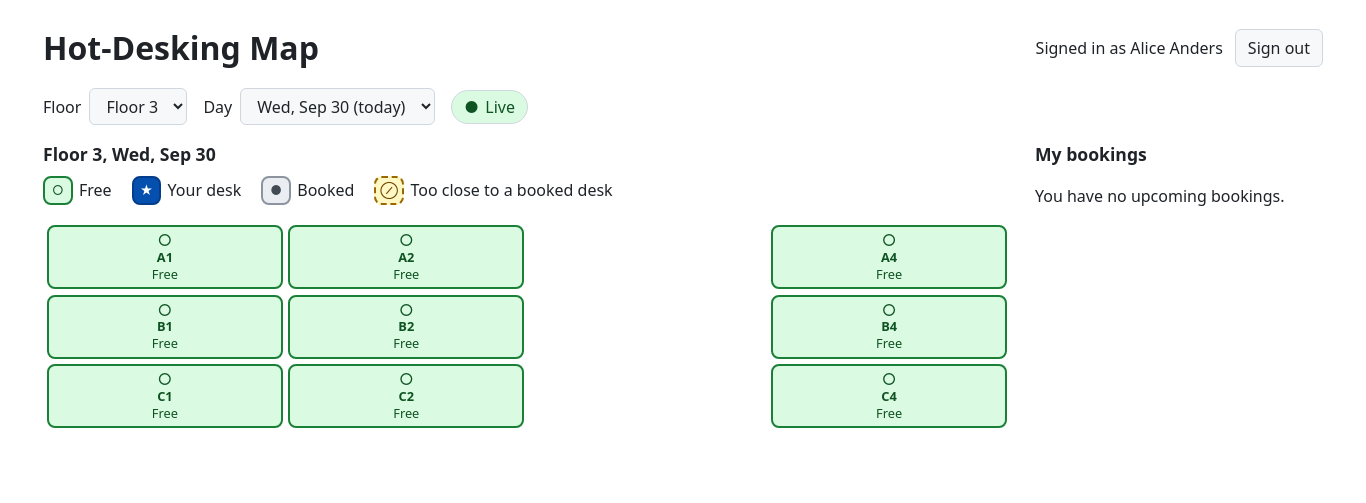
it: optimistic booking › reconciles with the server after DESK_TAKEN
Expected: the table is shown, x1=47 y1=225 x2=1007 y2=428
Click the button "○ A2 Free" at (406, 257), box x1=288 y1=225 x2=524 y2=289
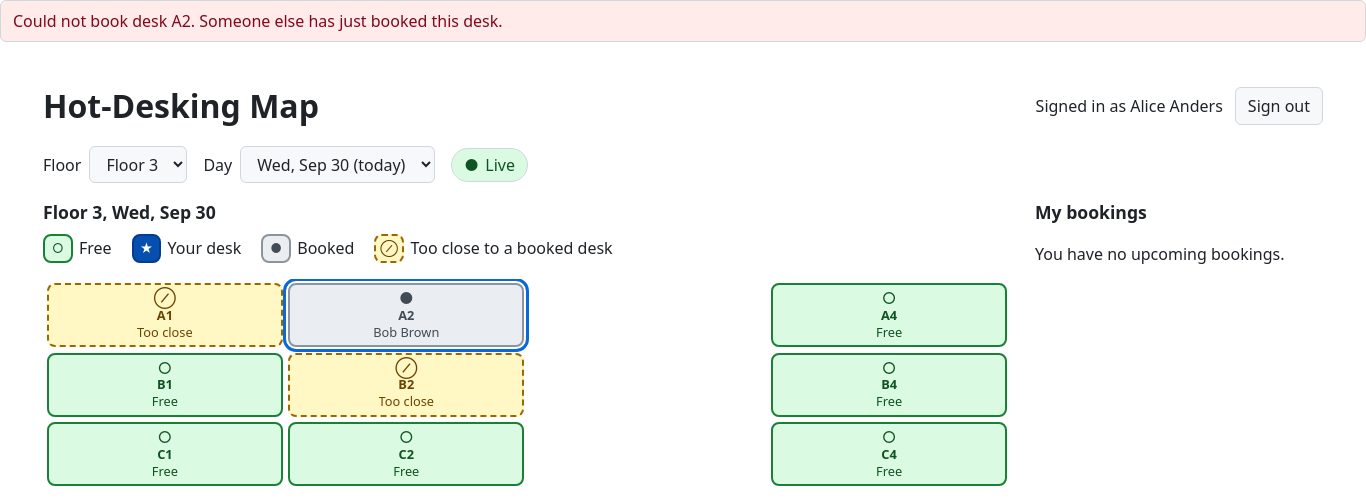
Expected: the message reads "Could not book desk A2. Someone else has just booked this desk.", x1=13 y1=10 x2=502 y2=32
